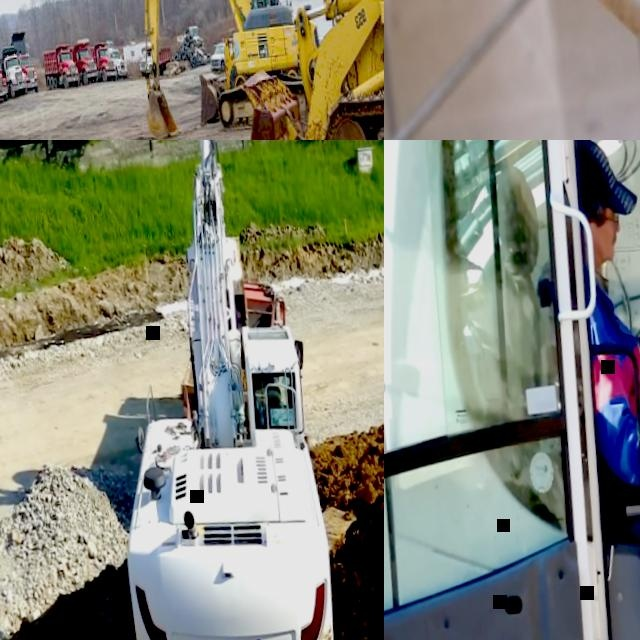Hardhat: (225, 38, 228, 42)
NO-Hardhat: (571, 140, 621, 219)
NO-Mask: (593, 227, 619, 258)
Person: (563, 140, 640, 640), (222, 37, 233, 78)
Safety Vest: (585, 294, 640, 507), (225, 45, 230, 60)
machinery: (79, 140, 347, 640), (384, 140, 640, 640), (182, 0, 384, 140), (125, 0, 327, 139), (9, 28, 40, 95), (42, 41, 80, 90), (0, 43, 28, 99), (68, 36, 98, 86), (138, 41, 174, 79), (89, 40, 118, 82), (105, 37, 128, 78), (176, 24, 205, 54), (0, 51, 9, 100)
vehicle: (209, 35, 237, 71)
